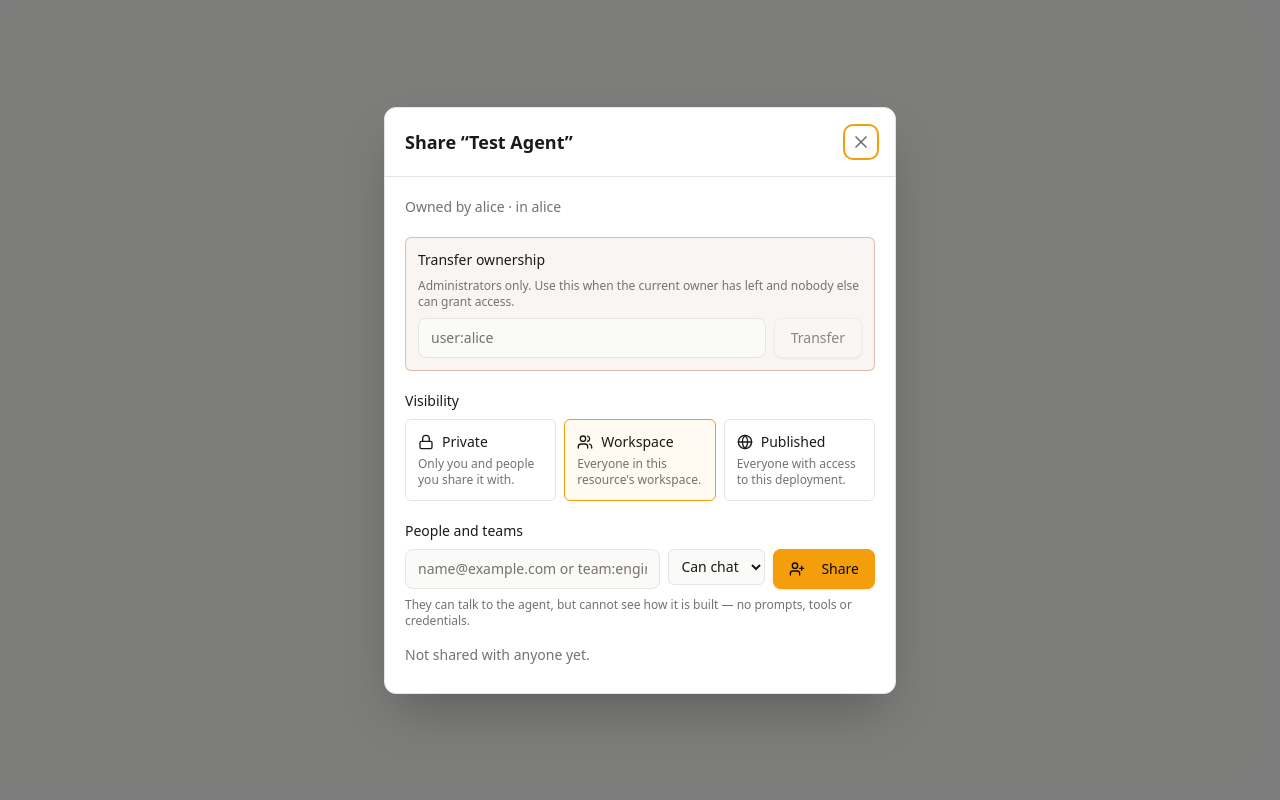
Scenario: ShareDialog › counts one resource in the singular and several in the plural
Type "bob" into the field with test id "share-subject-input" at (533, 568), box [405,548,660,588]
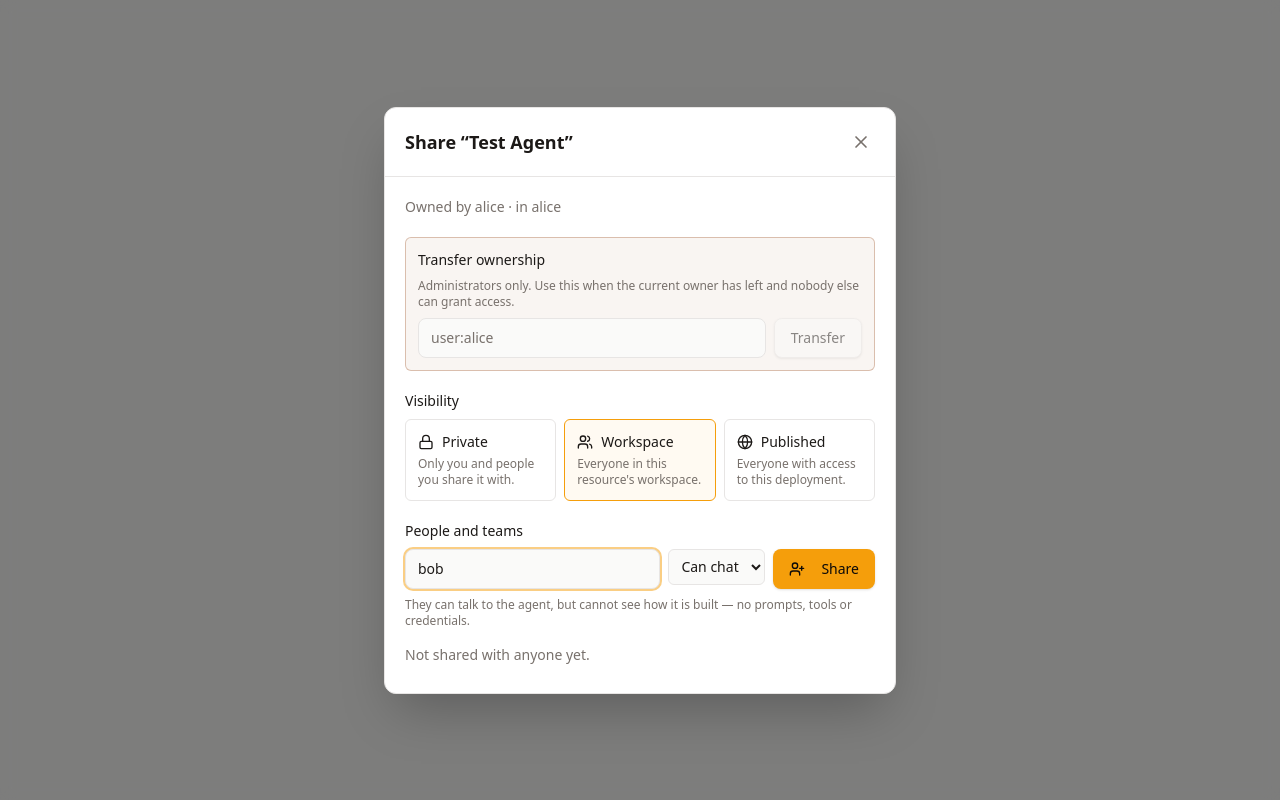
Click the button with test id "share-submit" at (824, 568), box [773,548,875,588]
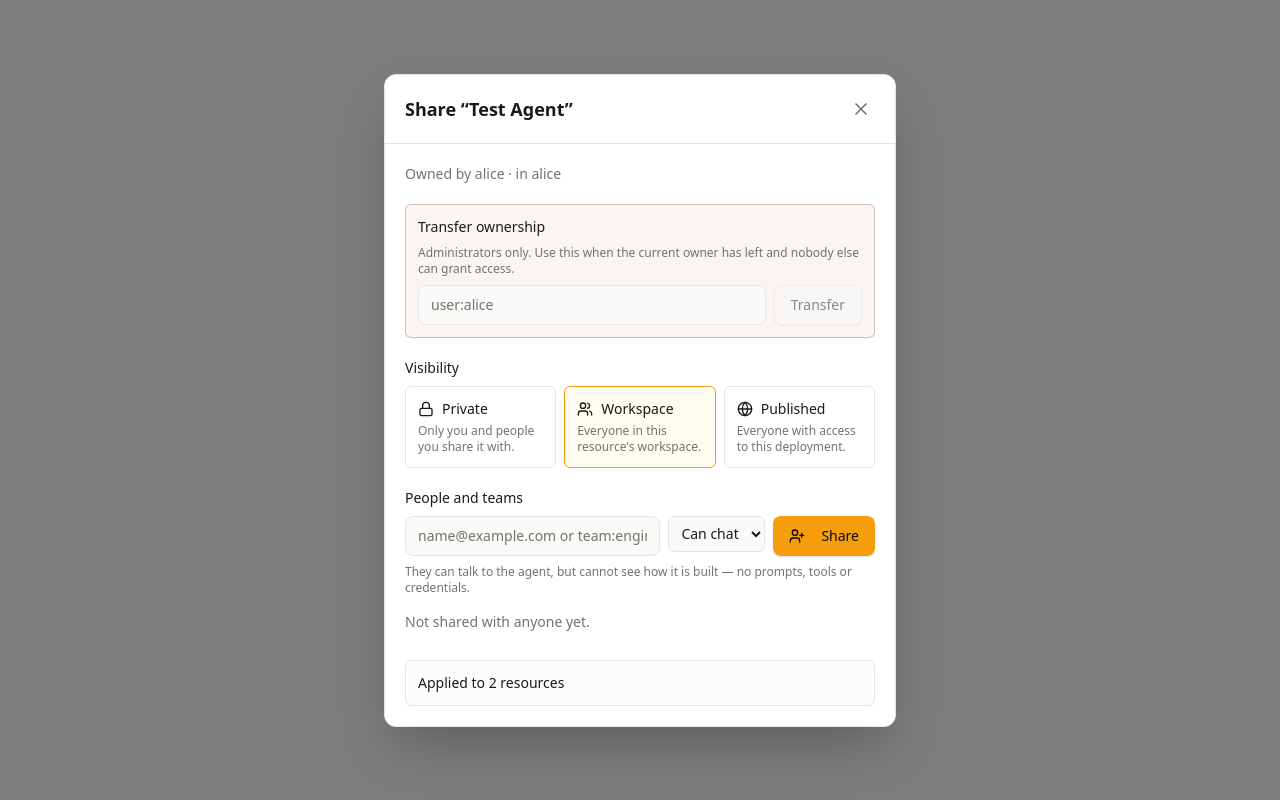
Expected: the text "Applied to 2 resources" is shown, [418,672,564,692]
